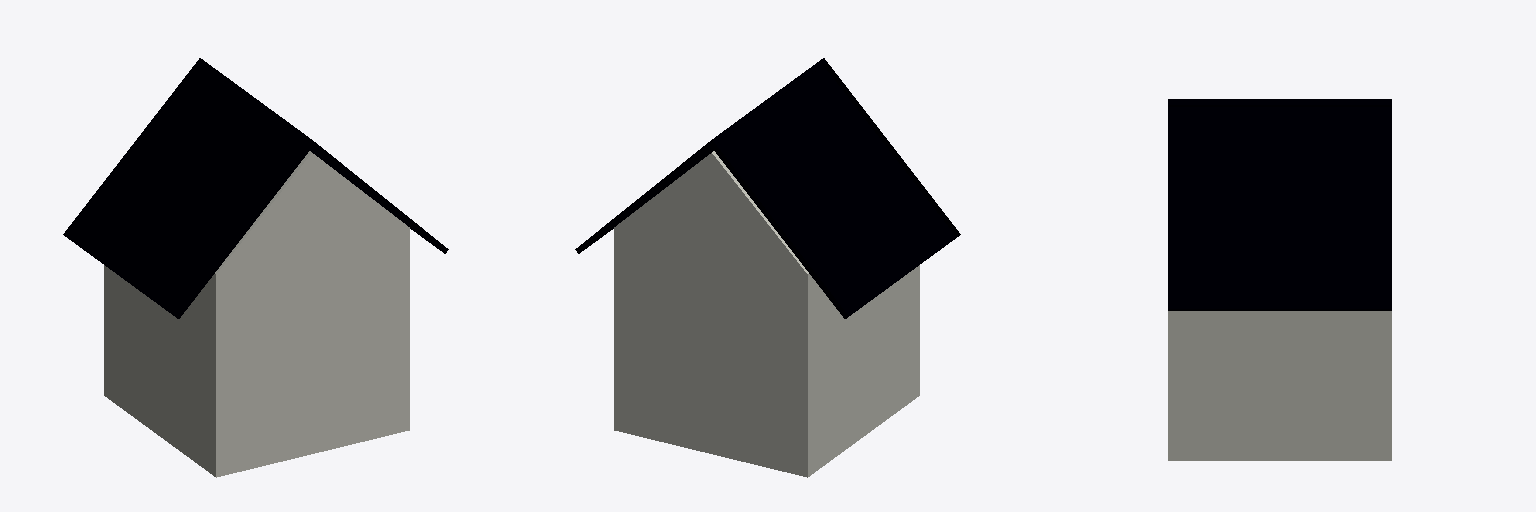
File: maison.obj
3 views of the same model, side by side, from view 1: azimuth 30°, elevation 25°; view 2: azimuth 150°, elevation 25°; view 3: azimuth 270°, elevation 25° (orthographic).
Visible parts, largest first — view 1: Cube.001; view 2: Cube.001; view 3: Cube.001.
Boxes of the visible parts, <box> form: Cube.001: <box>63,58,448,477</box>; Cube.001: <box>575,58,960,477</box>; Cube.001: <box>1168,99,1391,460</box>.
Size of the model in its own units: 8.28 by 9.09 by 5.86.